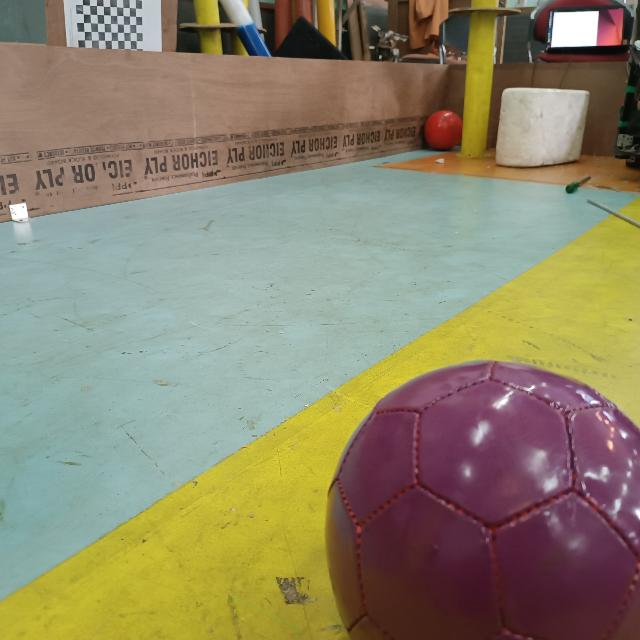P: (322, 356, 640, 640)
R: (422, 108, 464, 152)
